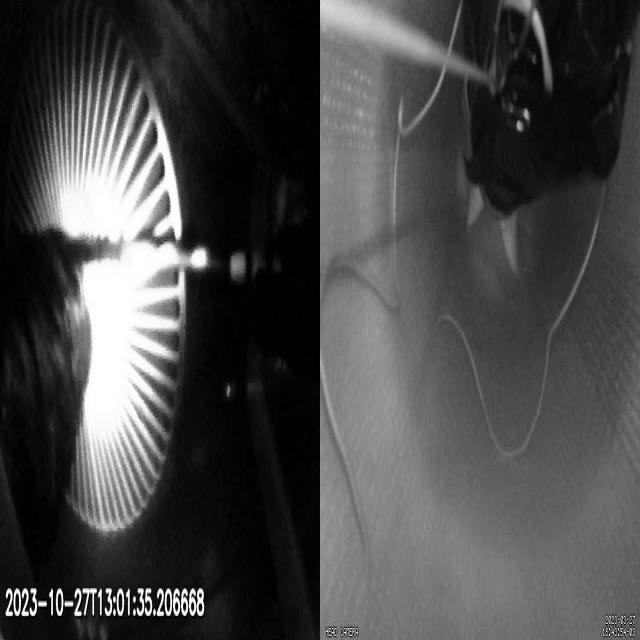white-dots: (229, 245, 284, 285)
